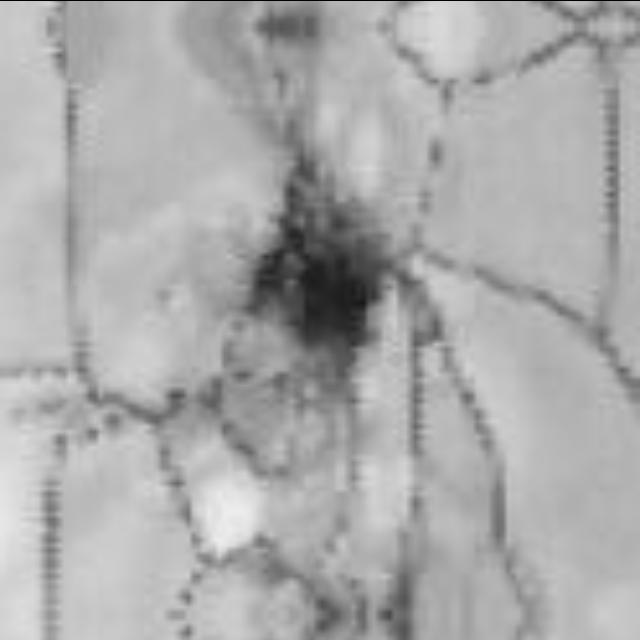good_void: (247, 147, 399, 401)
